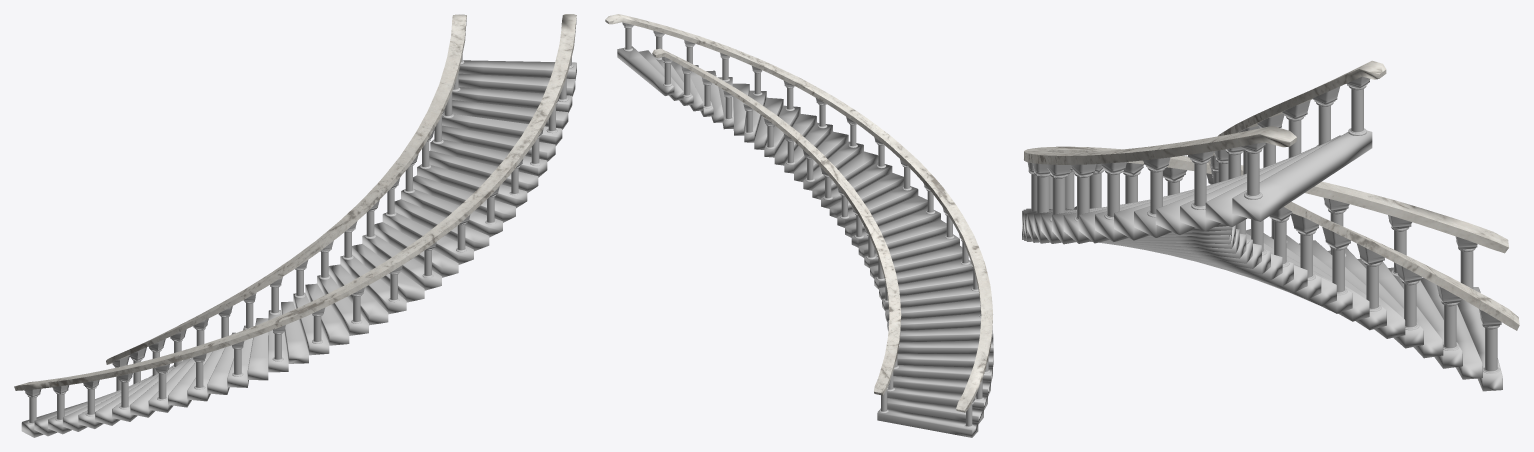
Rendered from ladder.gltf.
3 renders of one model, left to right at view 1: azimuth 30°, elevation 25°; view 2: azimuth 150°, elevation 25°; view 3: azimuth 270°, elevation 25°, orthographic. The views are drawn at different scales.
Visible parts, largest first — view 1: barandaEsc.013, barandaEsc.009, barandaEsc.004, barandaEsc.005; view 2: barandaEsc.013, barandaEsc.009, barandaEsc.004, barandaEsc.005; view 3: barandaEsc.013, barandaEsc.004, barandaEsc.009, barandaEsc.005.
Part boxes in pixels (box(x1,y1,x2,y2)): barandaEsc.013: box(21, 60, 576, 437); barandaEsc.009: box(14, 14, 576, 390); barandaEsc.004: box(27, 55, 573, 424); barandaEsc.005: box(24, 83, 559, 397); barandaEsc.013: box(617, 46, 993, 437); barandaEsc.009: box(605, 14, 992, 412); barandaEsc.004: box(623, 26, 989, 427); barandaEsc.005: box(622, 22, 984, 404); barandaEsc.013: box(1022, 130, 1502, 391); barandaEsc.004: box(1028, 85, 1500, 373); barandaEsc.009: box(1024, 60, 1519, 330); barandaEsc.005: box(1027, 76, 1501, 327).
Size of the model in its own units: 16.48 by 10.76 by 8.55.
